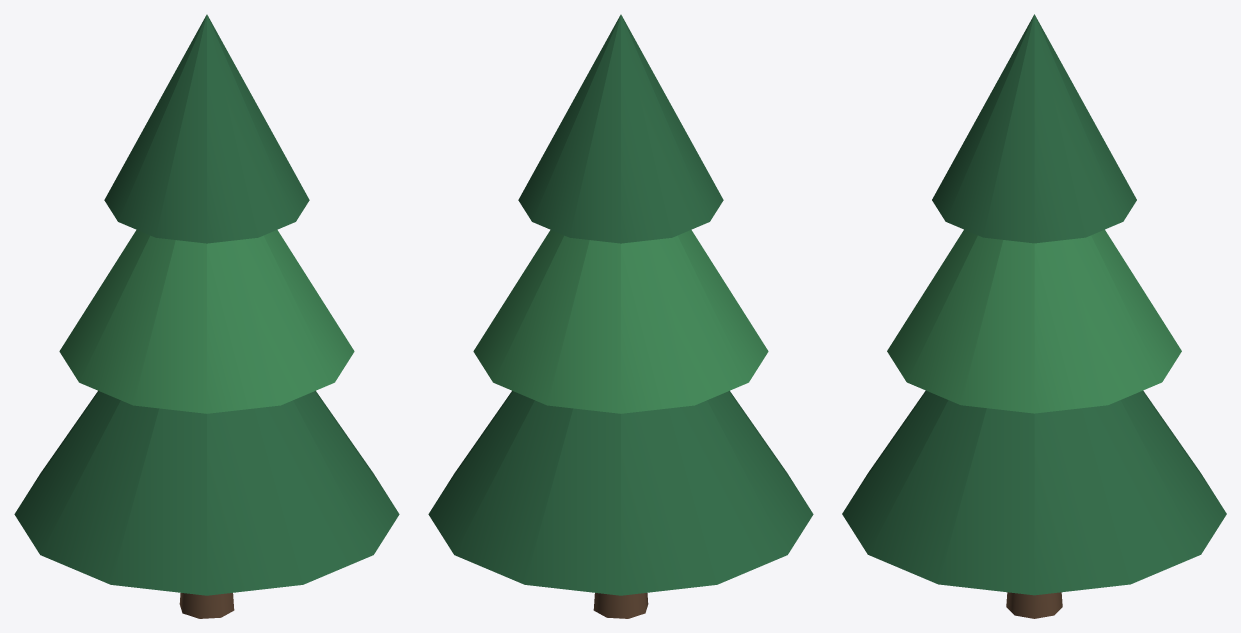
File: pine.gltf
3 renders of one model, left to right at view 1: azimuth 30°, elevation 25°; view 2: azimuth 150°, elevation 25°; view 3: azimuth 270°, elevation 25°, orthographic.
Parts seen in each view (by area): view 1: pine; view 2: pine; view 3: pine.
Part boxes in pixels (x1=…): pine: x1=14, y1=14, x2=399, y2=618; pine: x1=428, y1=14, x2=813, y2=618; pine: x1=842, y1=14, x2=1226, y2=618.
Bounding box in the file's own units: 3 × 5.1 × 3.
